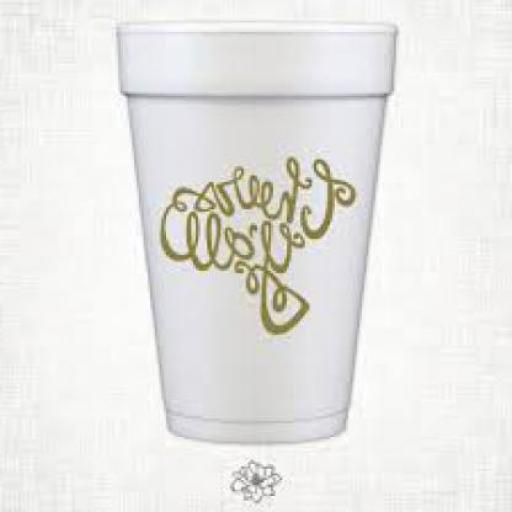paper: (116, 18, 401, 441)
